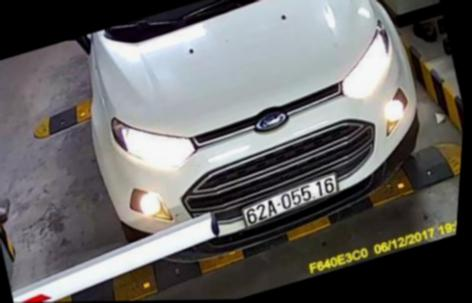License_Plate: (222, 171, 355, 234)
